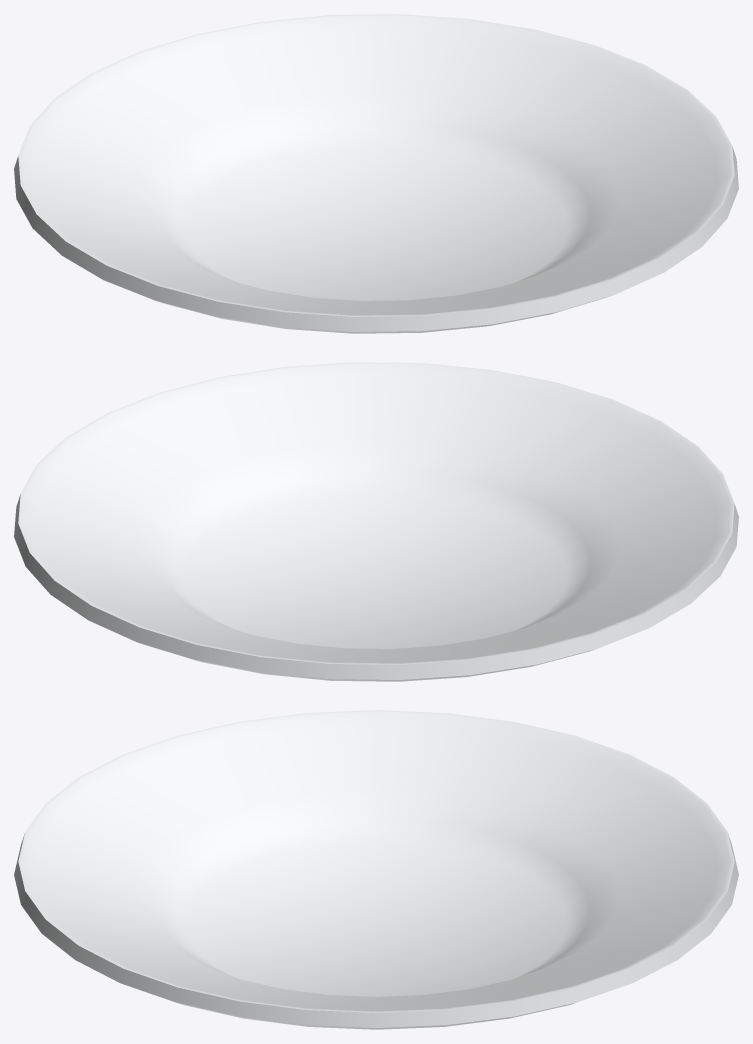
The model's file is prato_raso.glb.
3 renders of one model, top to bottom at view 1: azimuth 30°, elevation 25°; view 2: azimuth 150°, elevation 25°; view 3: azimuth 270°, elevation 25°, orthographic.
Parts seen in each view (by area): view 1: prato_raso; view 2: prato_raso; view 3: prato_raso.
Part boxes in pixels (x1,y1,x2,y2): prato_raso: (14,14,738,333); prato_raso: (14,362,738,681); prato_raso: (14,710,738,1029).
Size of the model in its own units: 0.26 by 0.0303 by 0.26.
1 material, 1 textured.
